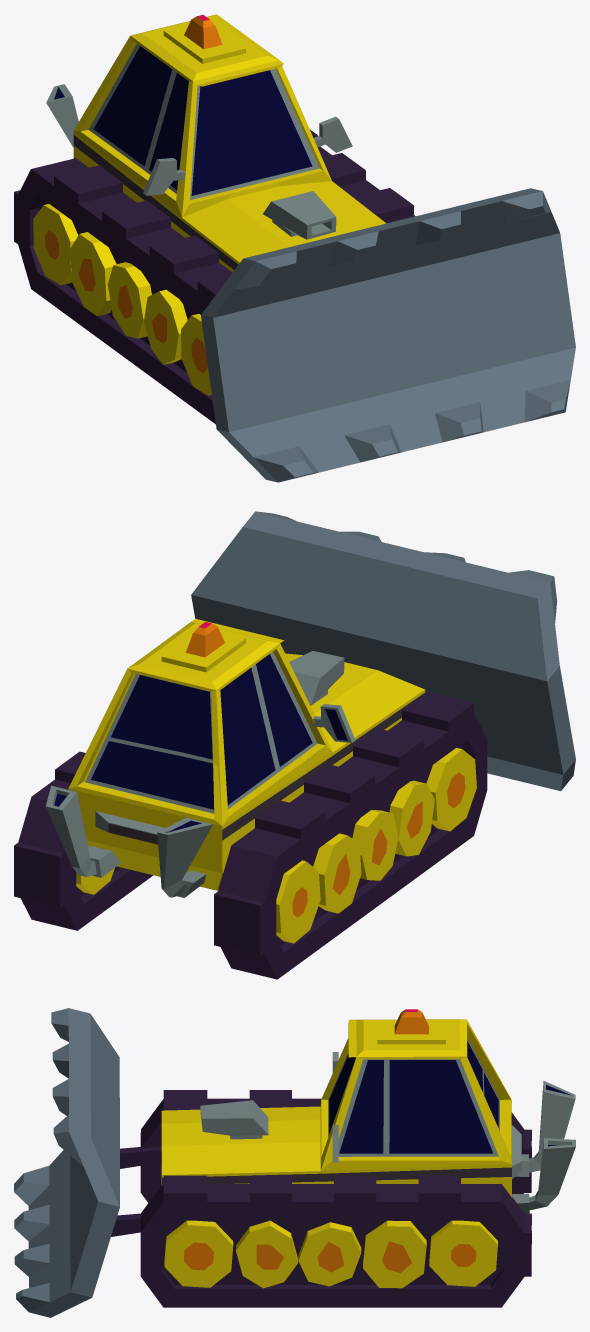
File: 117_bulldozer.gltf
3 renders of one model, top to bottom at view 1: azimuth 30°, elevation 25°; view 2: azimuth 150°, elevation 25°; view 3: azimuth 270°, elevation 25°, orthographic. The views are drawn at different scales.
Visible parts, largest first — view 1: bulldozer; view 2: bulldozer; view 3: bulldozer.
Boxes of the visible parts, left/top/right/bottom form: bulldozer: left=14, top=14, right=575, bottom=482; bulldozer: left=14, top=511, right=575, bottom=979; bulldozer: left=14, top=1008, right=575, bottom=1317.
Size of the model in its own units: 3.91 by 3 by 6.21.
Materials: 1 (1 with a texture image).
